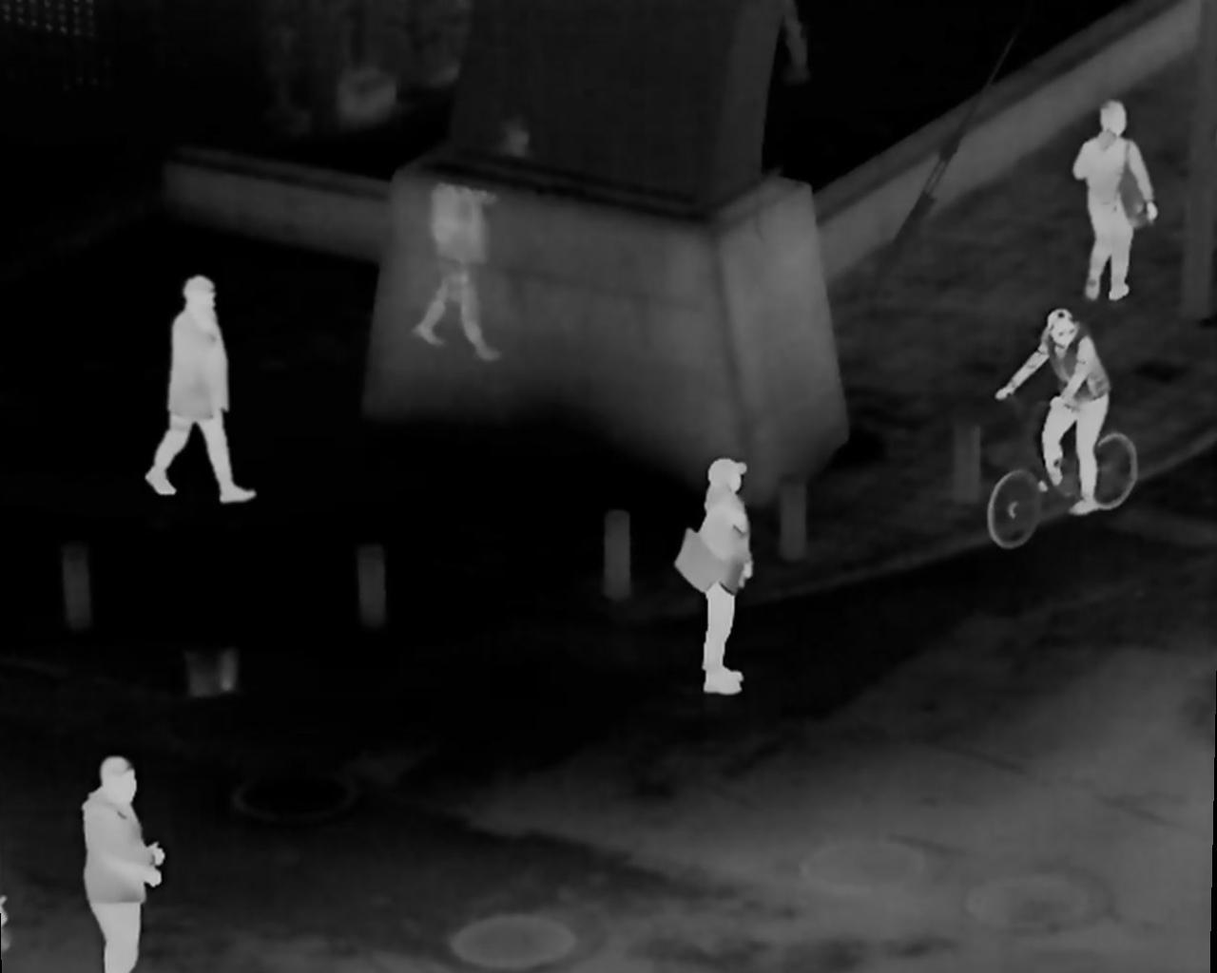person: (999, 304, 1106, 523), (153, 274, 256, 500), (668, 448, 751, 700), (83, 758, 153, 973), (1083, 101, 1145, 297)
